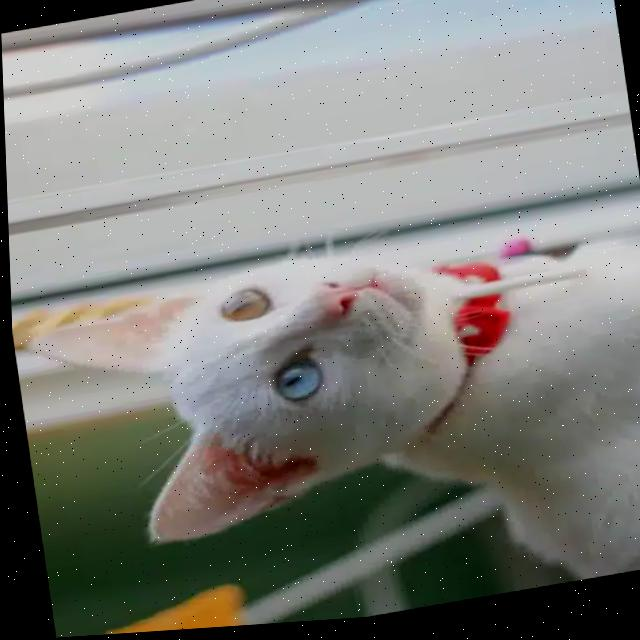Khao Manee: (13, 201, 640, 640)
